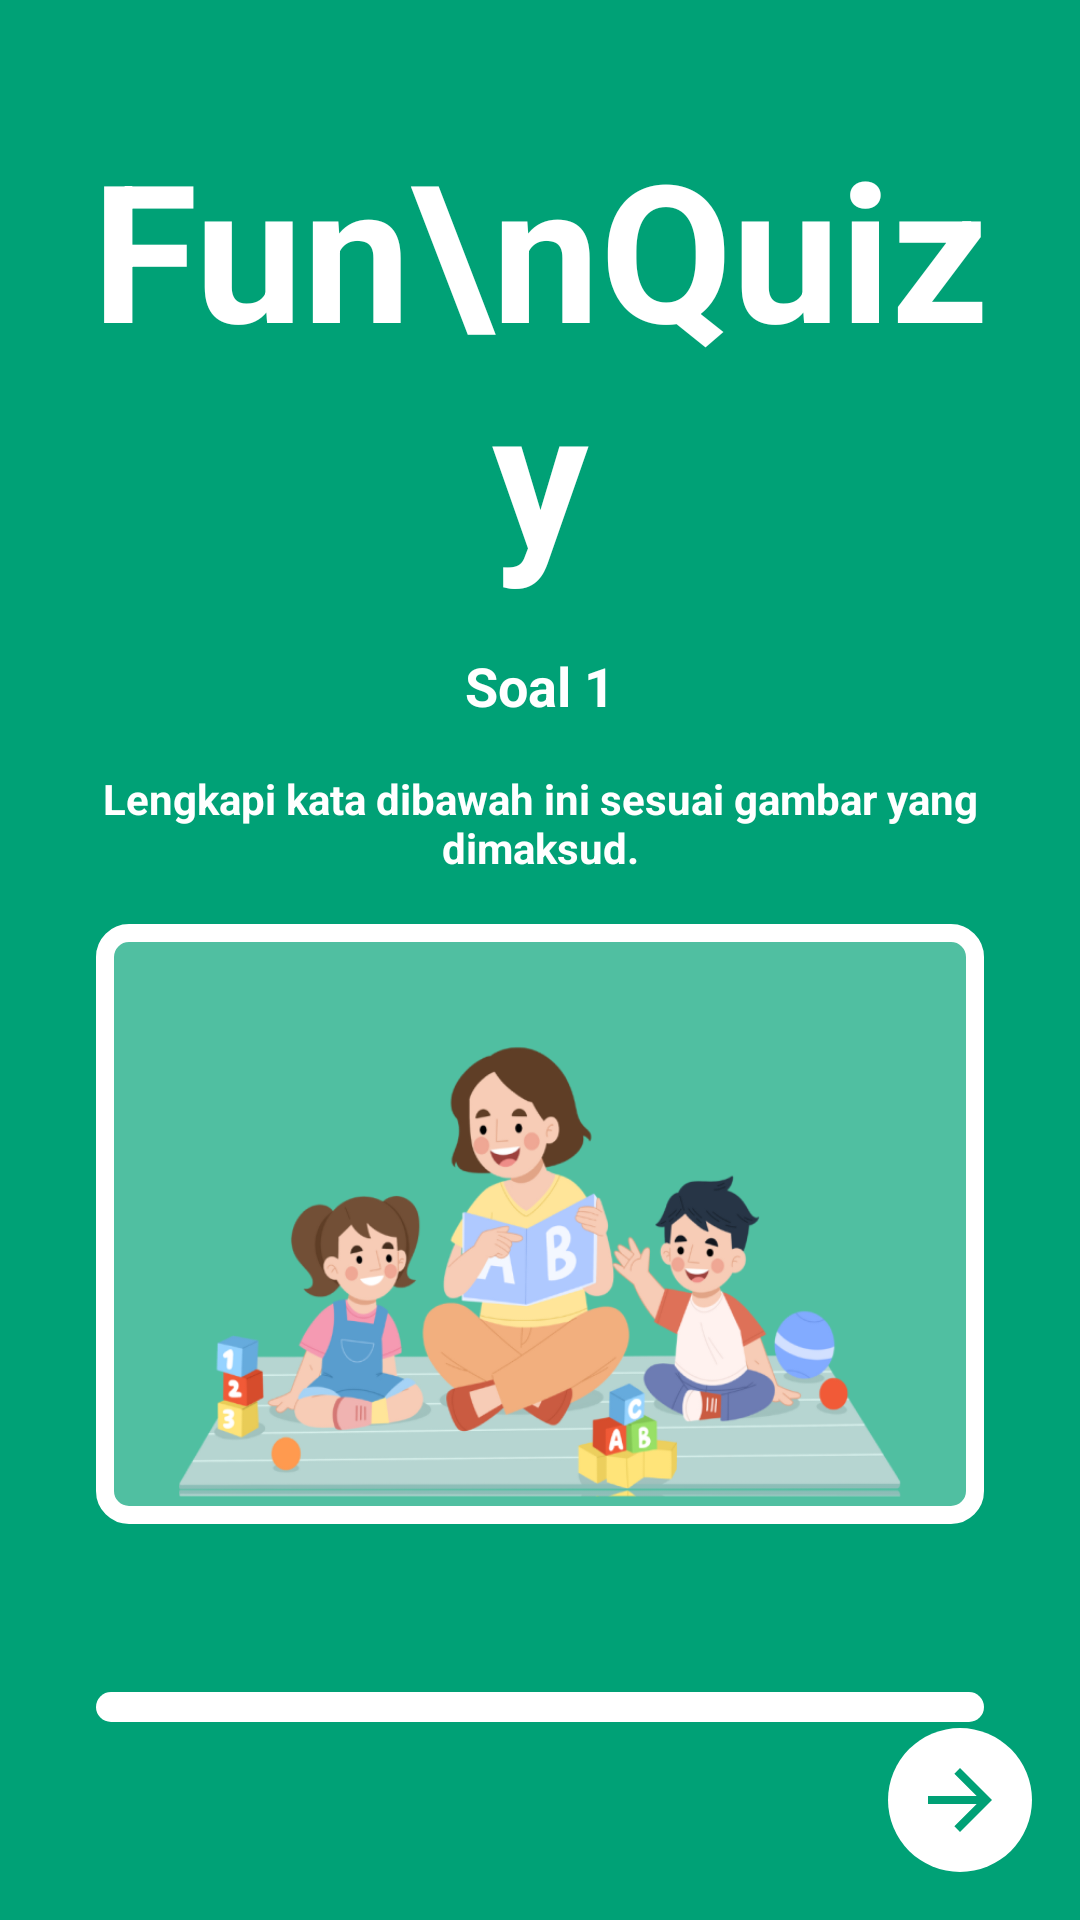

Where icons sit on this 1080×1920 app screen, as [x1,y1,x2,y2]:
arrow forward: [888,1728,1032,1872]
